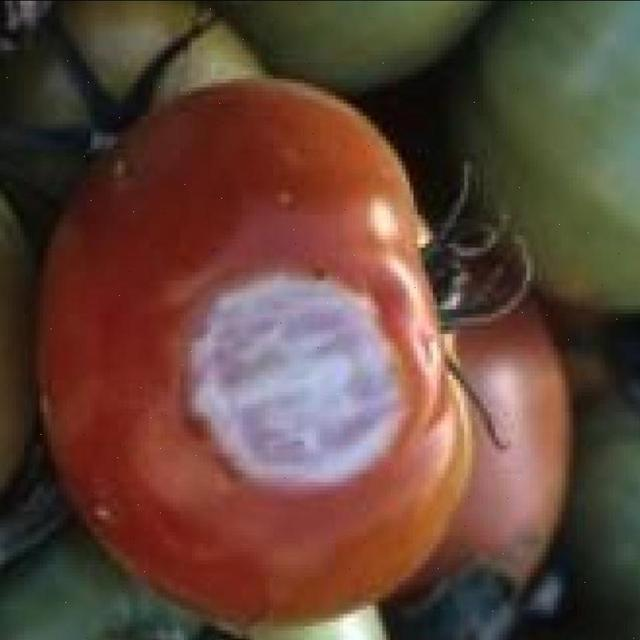Sunscald Fruit: (117, 180, 278, 334)
